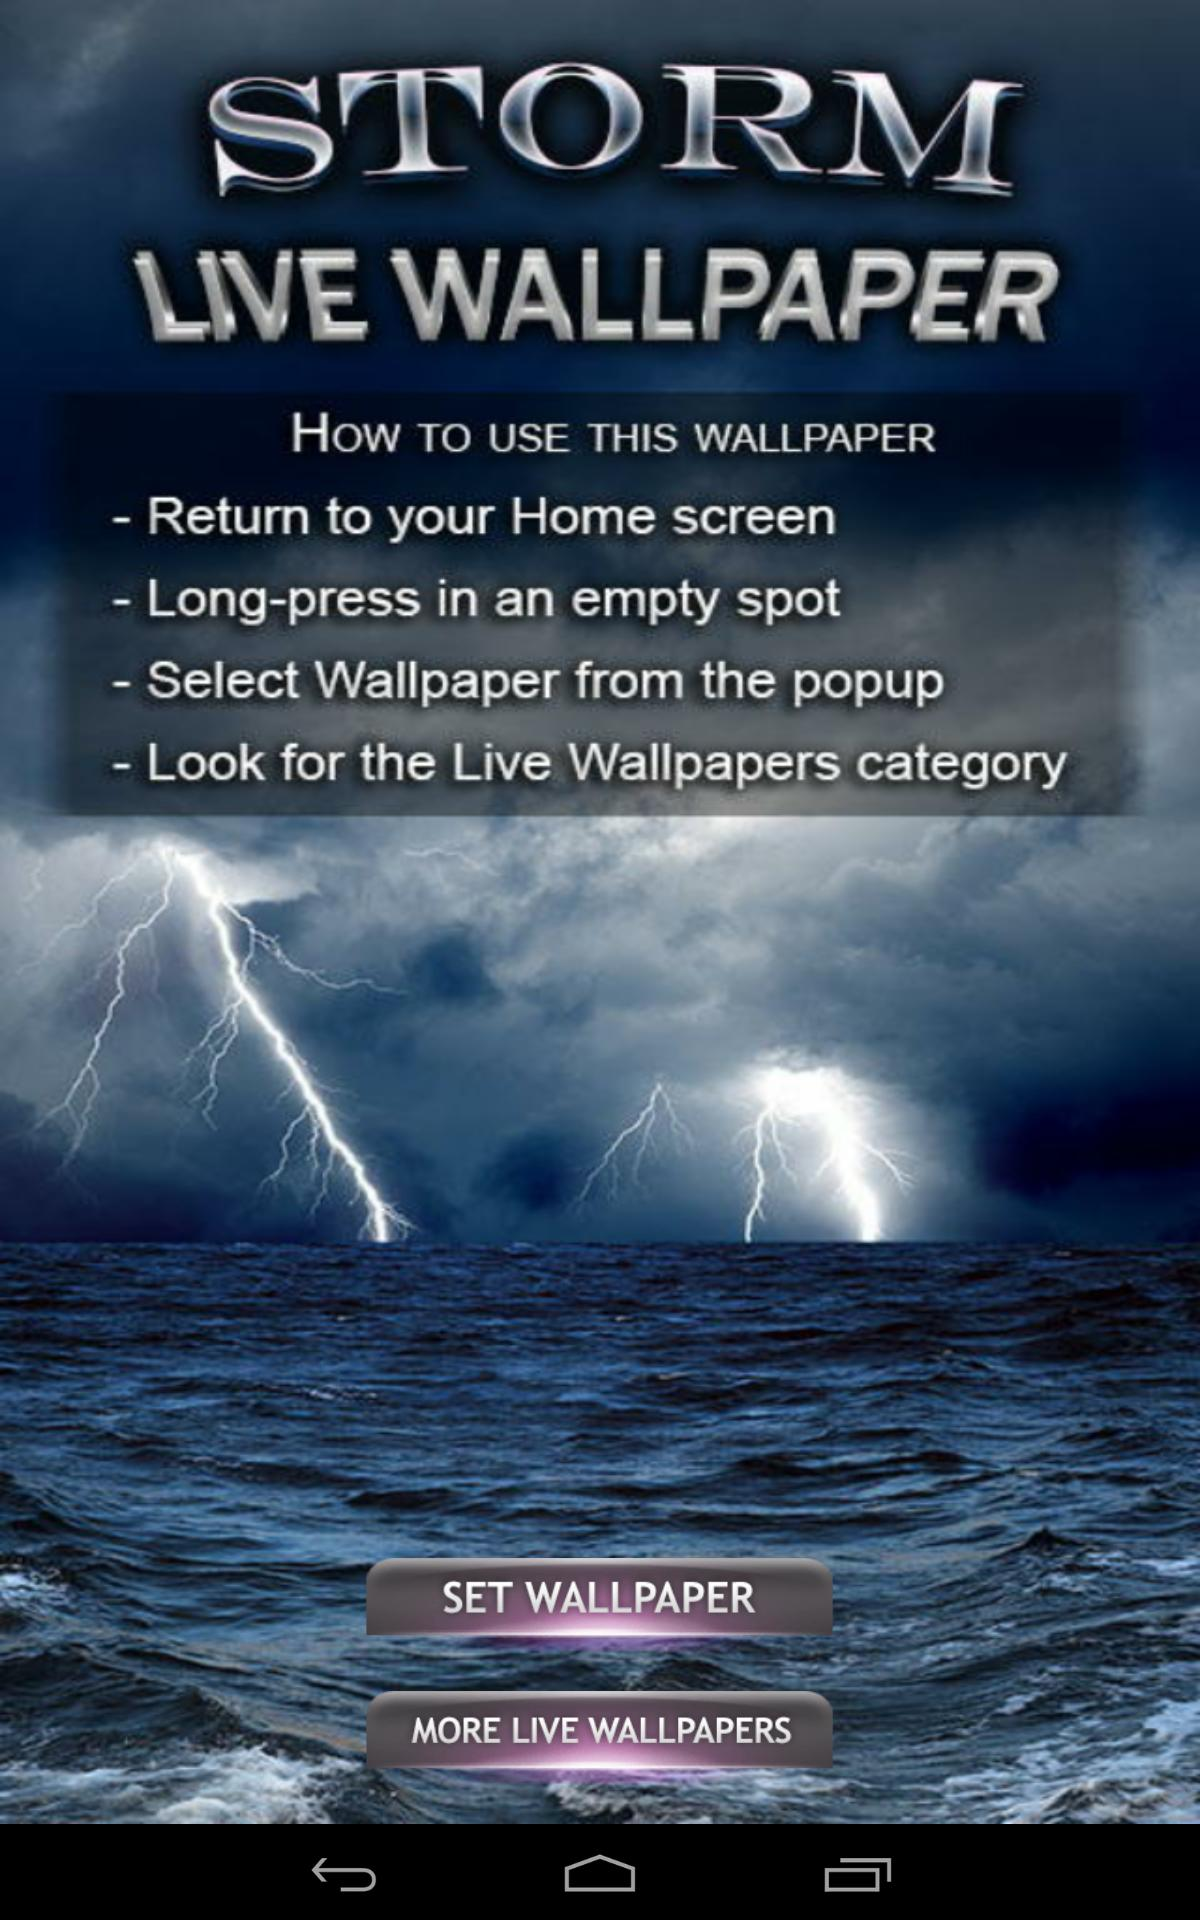android.widget.FrameLayout: (0, 0, 1200, 1825)
android.widget.ImageView: (310, 1691, 890, 1785), (310, 1558, 890, 1650)
android.widget.LinearLayout: (0, 0, 1200, 1825)
android.widget.RelativeLayout: (0, 0, 1200, 1825)
